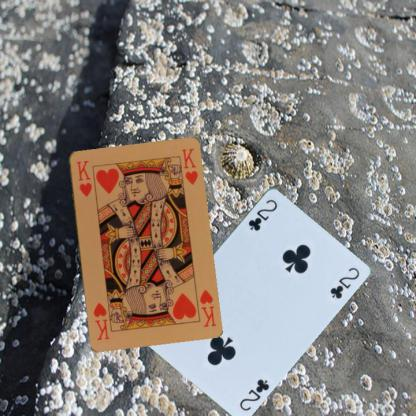2c: (245, 196, 278, 232), (237, 376, 270, 412)
Kh: (196, 287, 218, 328), (73, 158, 93, 198)
